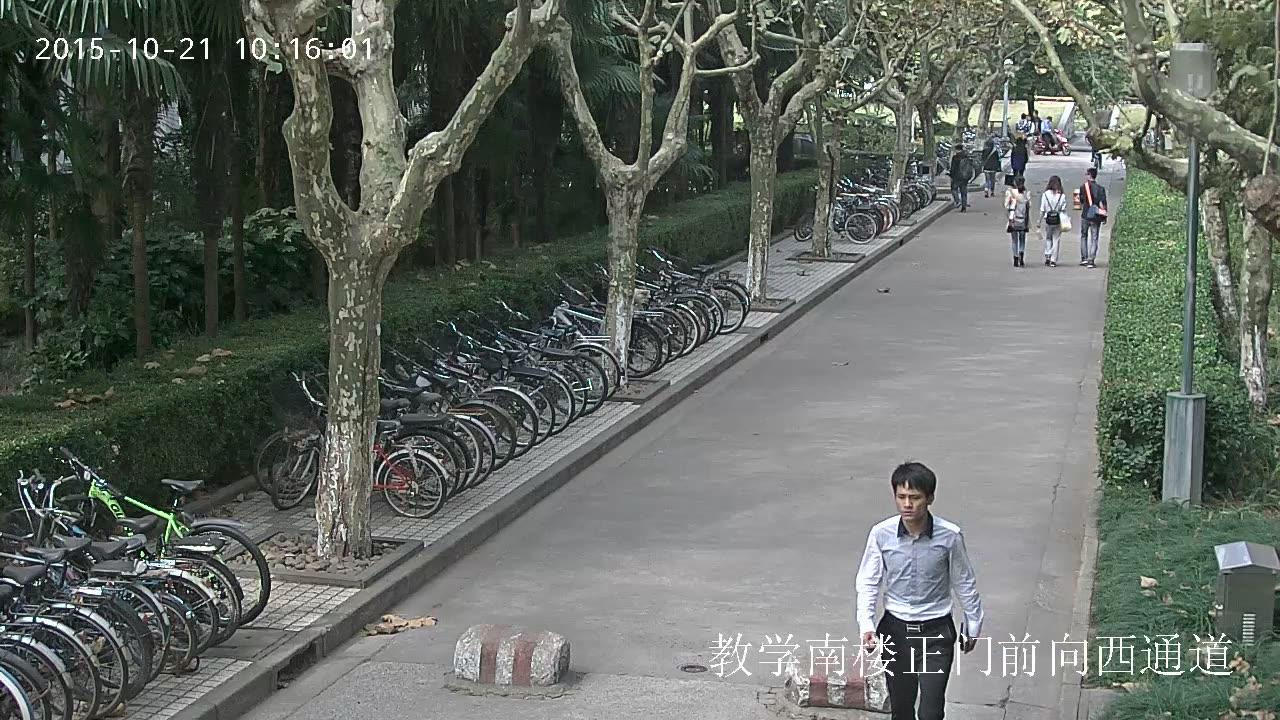person: (855, 461, 984, 720), (1036, 174, 1072, 267), (1079, 167, 1108, 268), (1004, 174, 1031, 268), (949, 145, 974, 212), (1033, 115, 1071, 155), (981, 139, 1001, 197), (1010, 138, 1028, 189), (1040, 115, 1056, 155), (1086, 130, 1101, 171), (1086, 130, 1101, 169), (1030, 110, 1041, 150)
